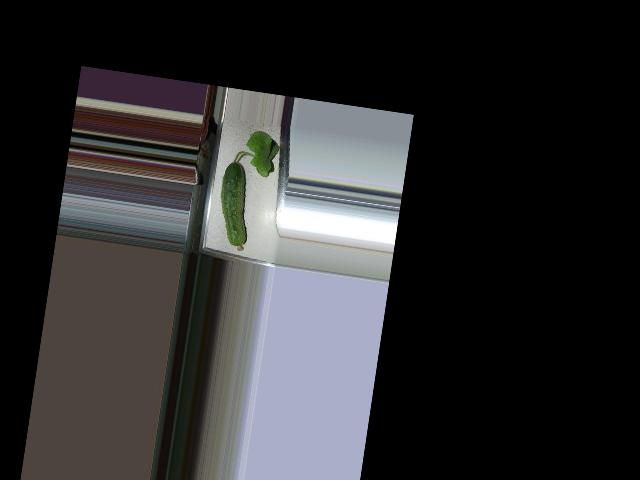cucumber: (212, 159, 257, 252)
